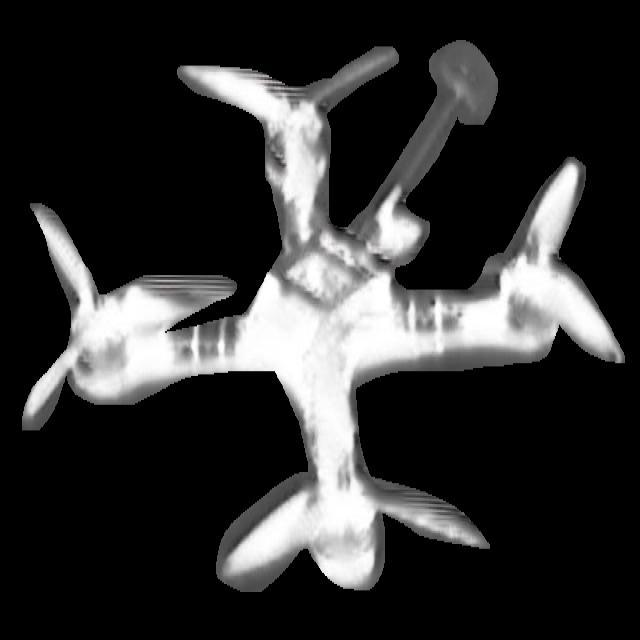drone: (25, 37, 619, 597)
